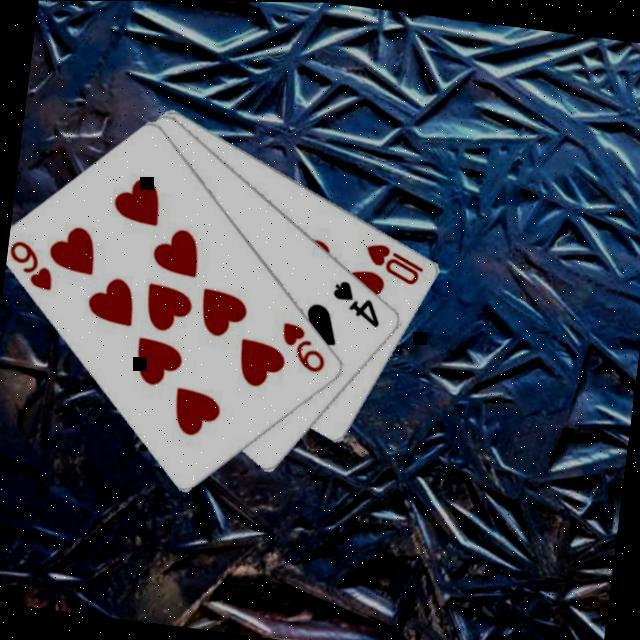10H: (358, 236, 428, 286)
4S: (325, 273, 385, 327)
9H: (273, 316, 331, 374), (2, 233, 58, 291)
